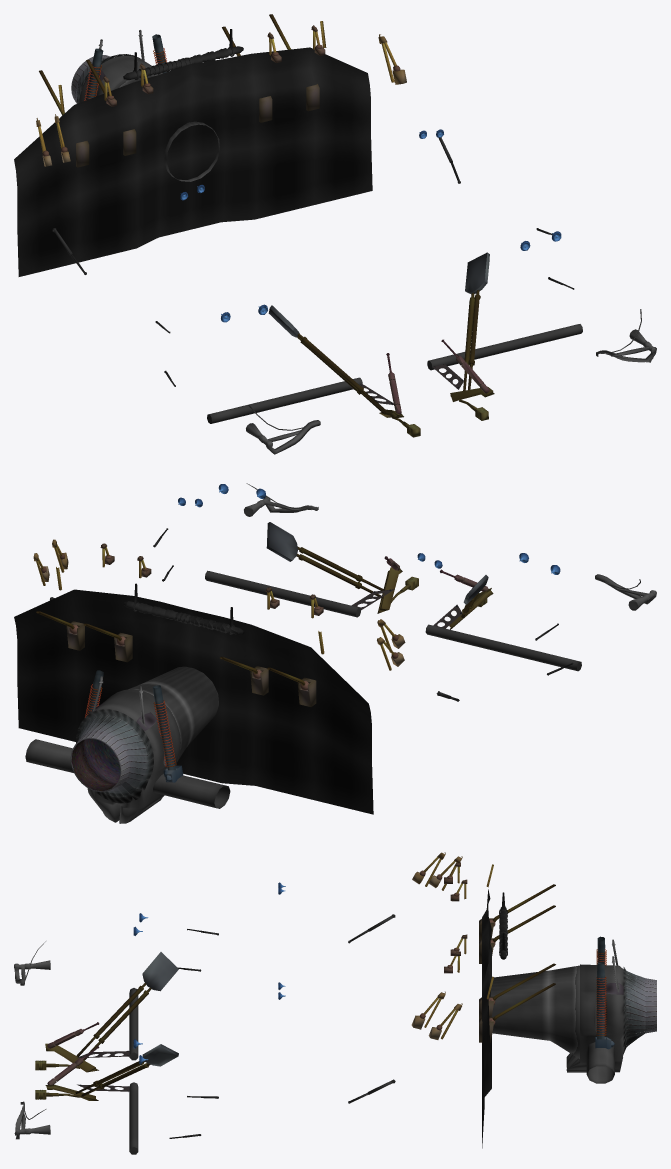
Rendered from TW_interior_d3.obj.
3 renders of one model, top to bottom at view 1: azimuth 30°, elevation 25°; view 2: azimuth 150°, elevation 25°; view 3: azimuth 270°, elevation 25°, orthographic. The views are drawn at different scales.
Parts seen in each view (by area): view 1: TW_interior_TW_interior_DefaultMaterial; view 2: TW_interior_TW_interior_DefaultMaterial; view 3: TW_interior_TW_interior_DefaultMaterial.
Part boxes in pixels (left/top/right/bottom): TW_interior_TW_interior_DefaultMaterial: left=14, top=14, right=656, bottom=454; TW_interior_TW_interior_DefaultMaterial: left=14, top=483, right=656, bottom=823; TW_interior_TW_interior_DefaultMaterial: left=14, top=852, right=656, bottom=1154.
Size of the model in its own units: 3.07 by 1.5 by 4.86.
1 material, 1 textured.
